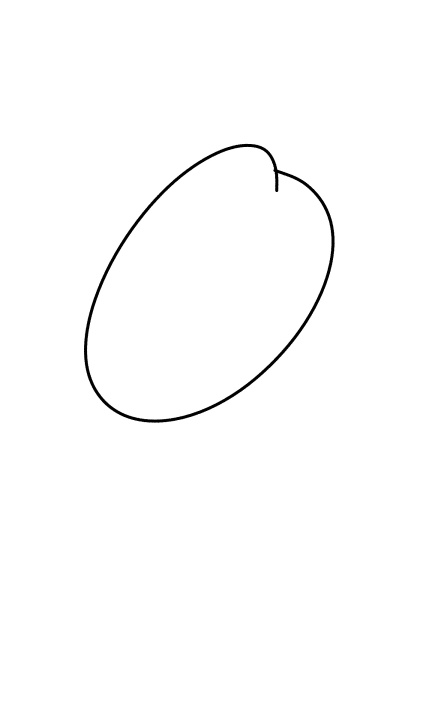Circle: (75, 140, 338, 429)
